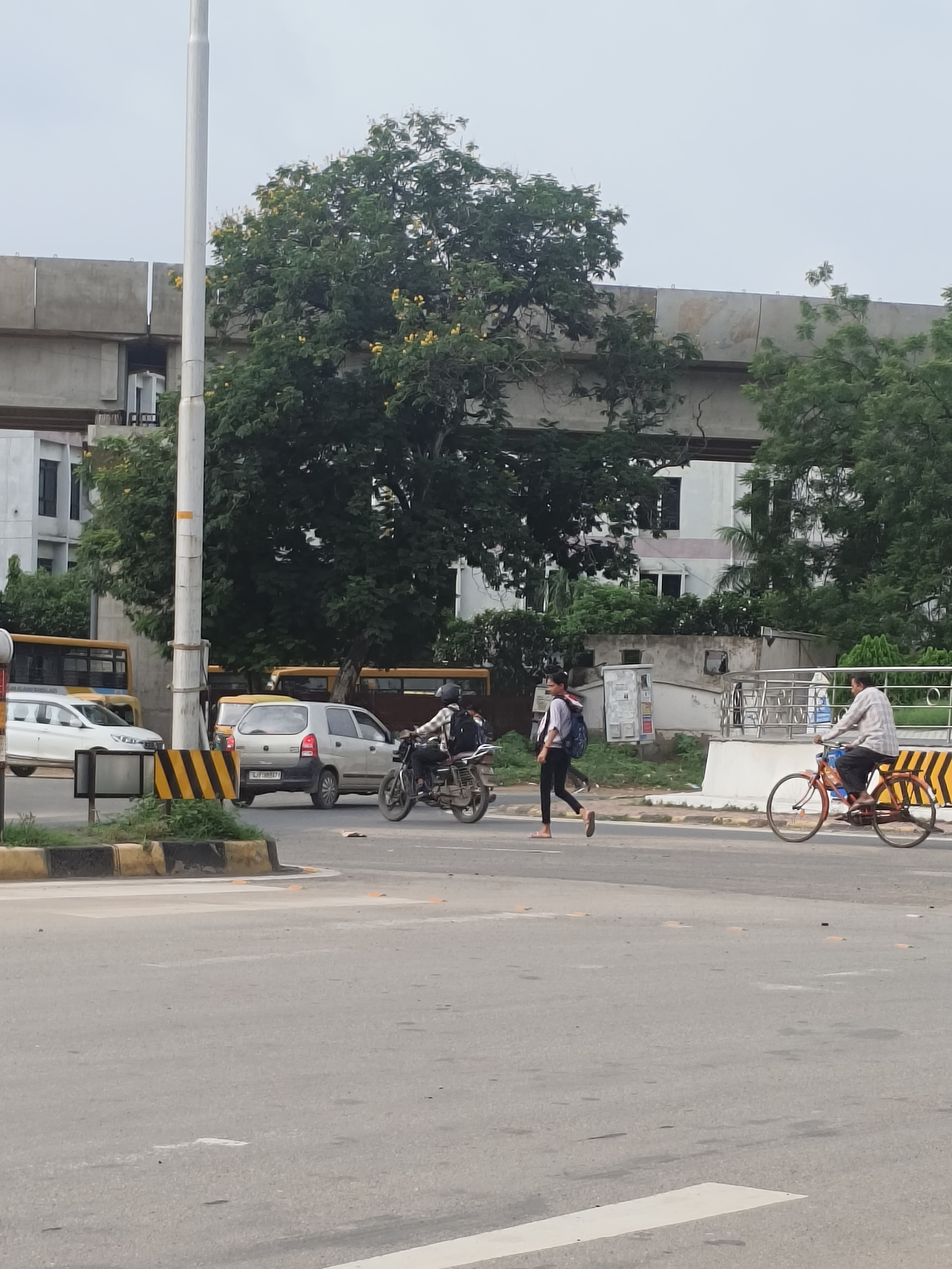BikeWithRider: (372, 677, 505, 826)
Helmet: (431, 679, 465, 711)
